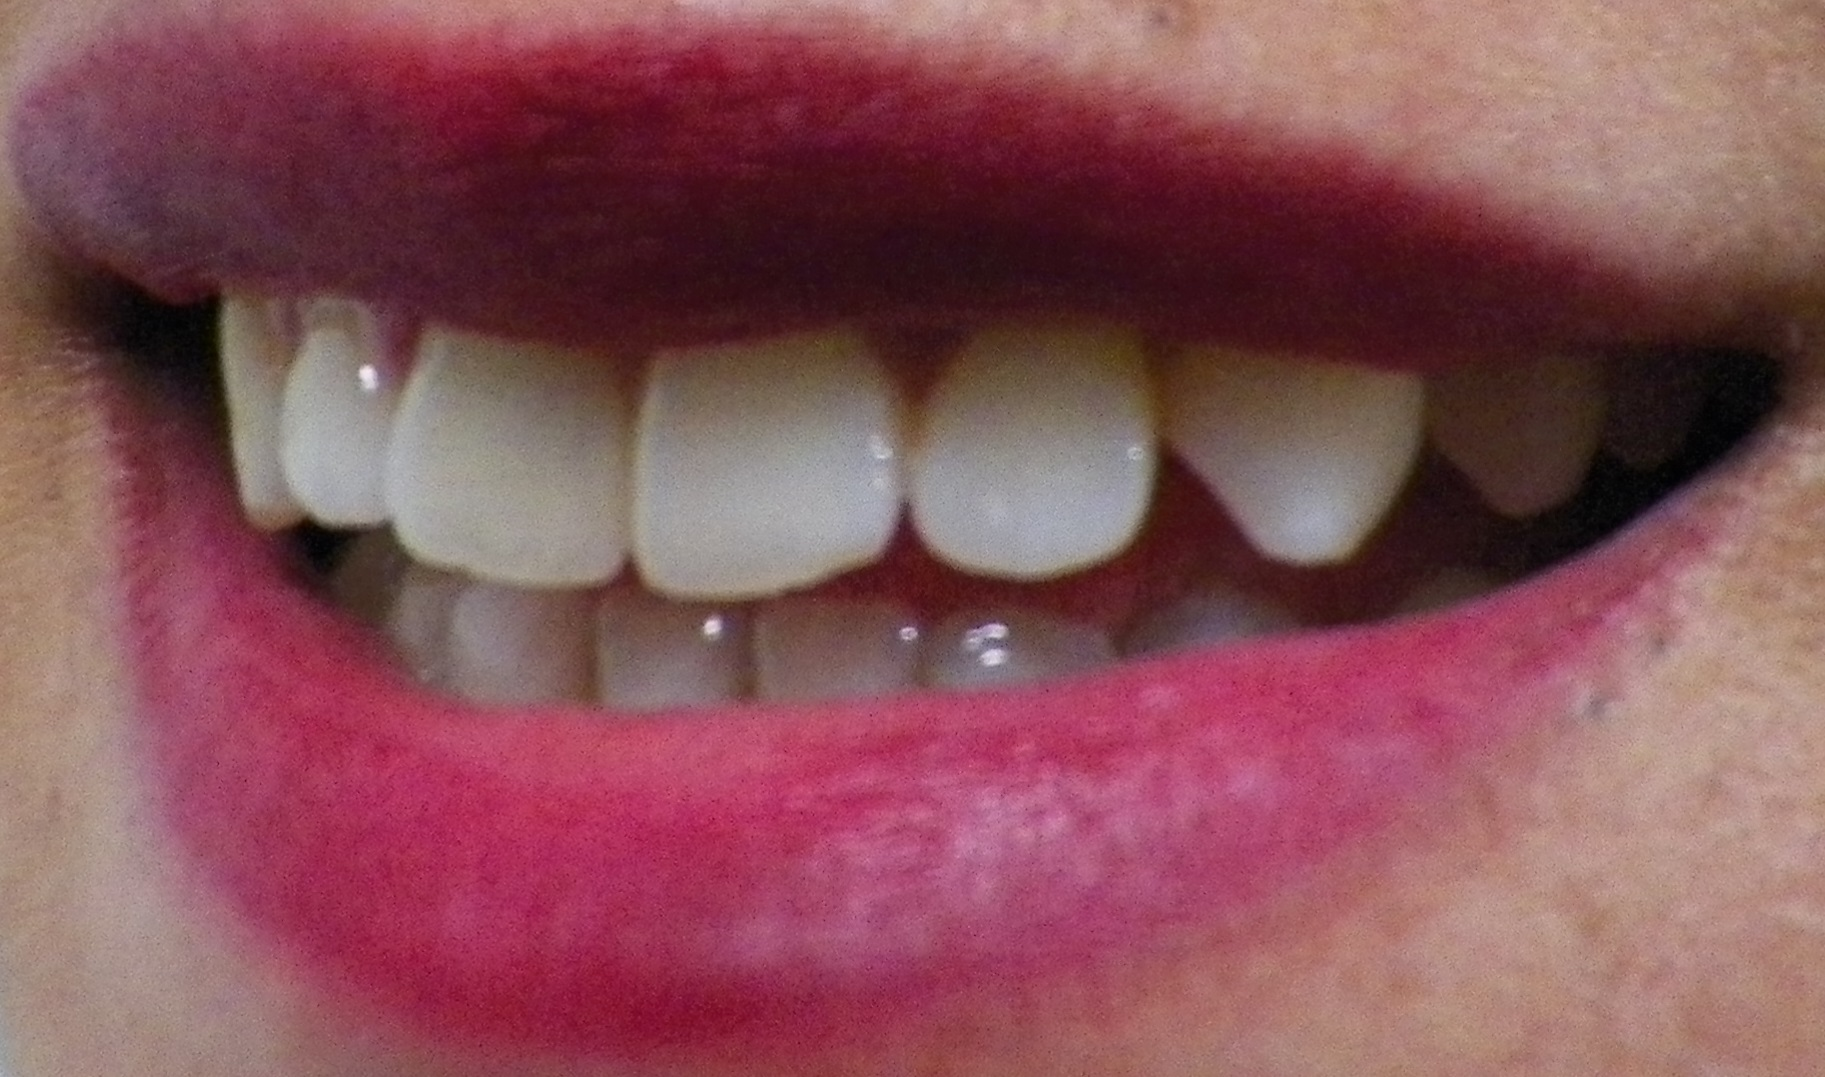boca: (176, 267, 1664, 719)
